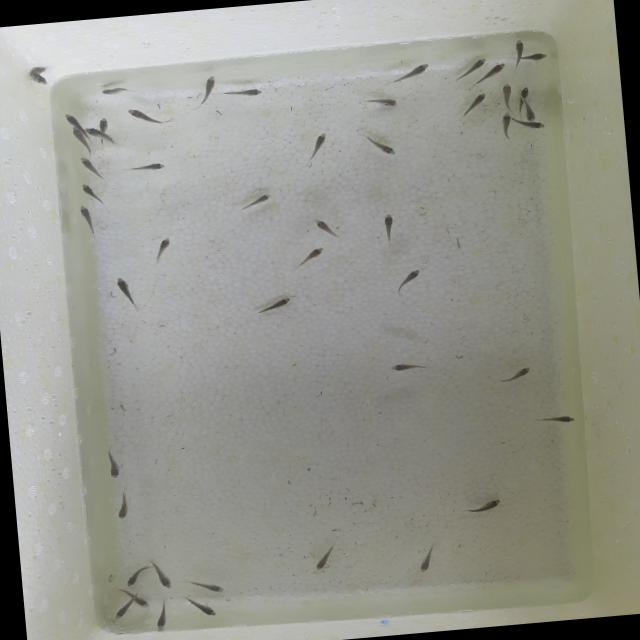fingerling: (124, 104, 173, 130), (456, 496, 504, 520), (192, 72, 220, 112), (391, 266, 424, 298), (114, 272, 140, 312), (385, 356, 429, 378), (302, 130, 332, 162), (390, 61, 432, 83), (378, 208, 402, 245), (252, 296, 296, 315), (292, 244, 326, 268), (454, 94, 484, 121), (499, 366, 535, 388), (533, 412, 579, 429), (240, 190, 274, 212), (102, 449, 124, 482), (364, 94, 404, 112), (128, 158, 168, 176), (150, 560, 174, 590), (223, 84, 265, 101), (76, 204, 97, 238), (150, 235, 172, 265), (26, 61, 50, 88), (120, 564, 147, 588), (77, 180, 105, 203), (369, 138, 398, 160), (75, 153, 101, 177), (312, 215, 339, 238), (477, 62, 507, 82), (310, 546, 335, 570), (498, 80, 520, 107), (152, 604, 172, 632), (191, 600, 220, 619), (193, 580, 227, 596), (106, 604, 136, 622), (495, 112, 513, 142), (458, 55, 487, 73), (113, 493, 130, 521), (520, 118, 548, 134), (506, 38, 530, 56), (62, 110, 85, 128), (70, 127, 84, 154), (416, 554, 434, 574), (518, 52, 548, 64), (99, 85, 128, 96), (82, 123, 100, 140), (523, 104, 538, 122), (134, 595, 150, 610), (97, 116, 110, 130), (520, 84, 530, 99)
